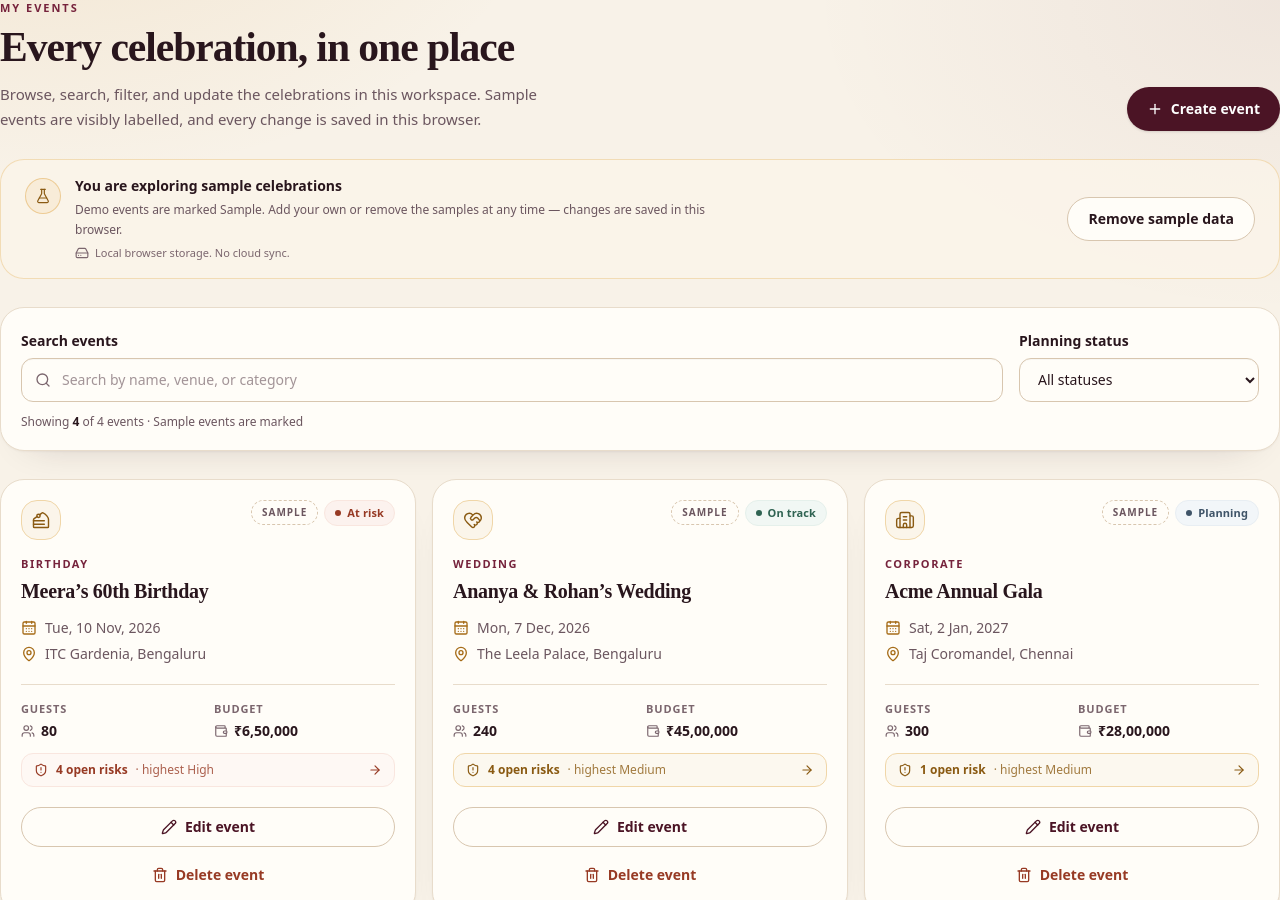
Test: EventsPage › filters events by planning status
Select "Completed" in the dropdown labelled "Planning status" at (1139,380), box [1019,358,1259,402]
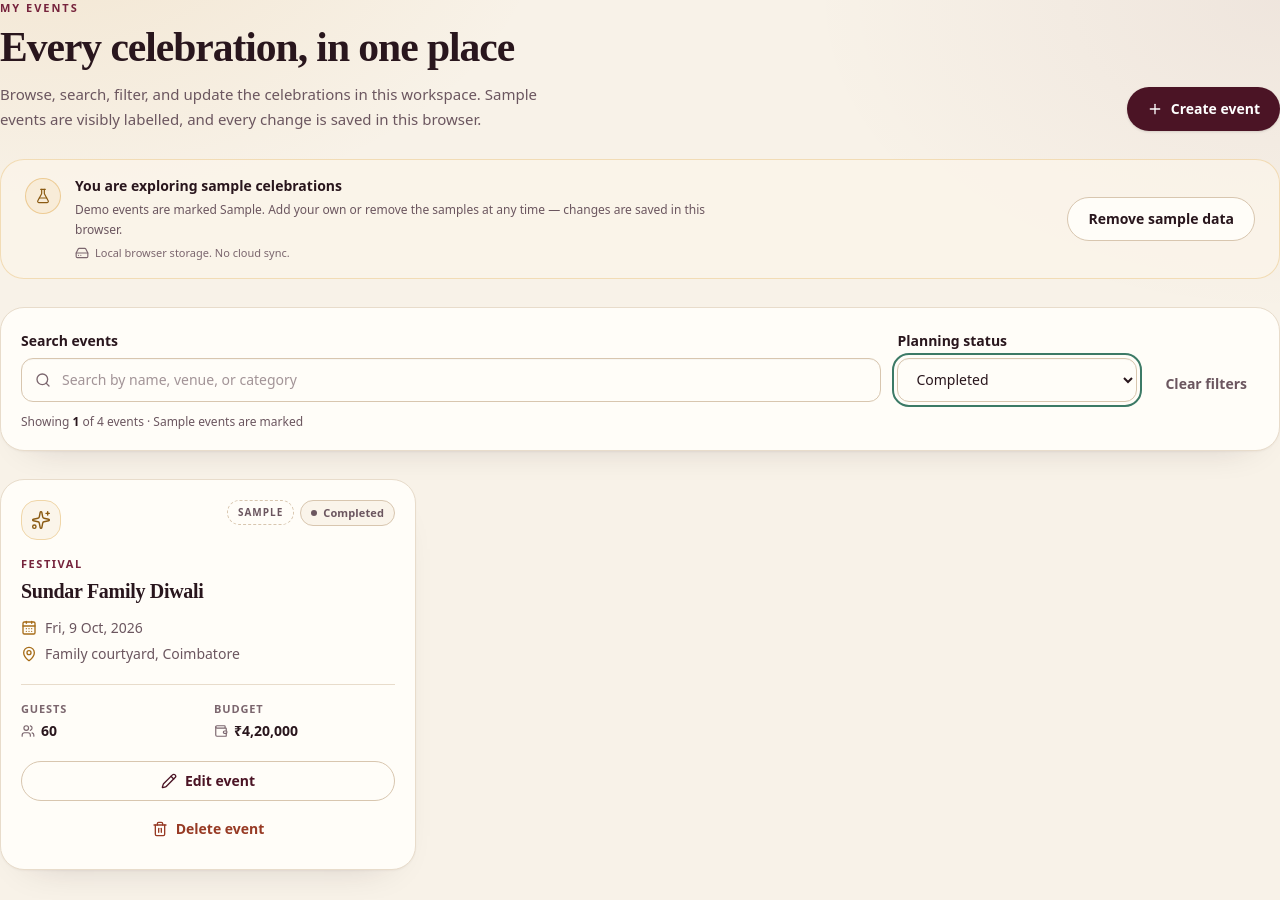
Check: the heading "Sundar Family Diwali" is shown, box [21,580,204,602]
Check: the heading "Meera’s 60th Birthday" is gone
Check: the heading "Acme Annual Gala" is gone
